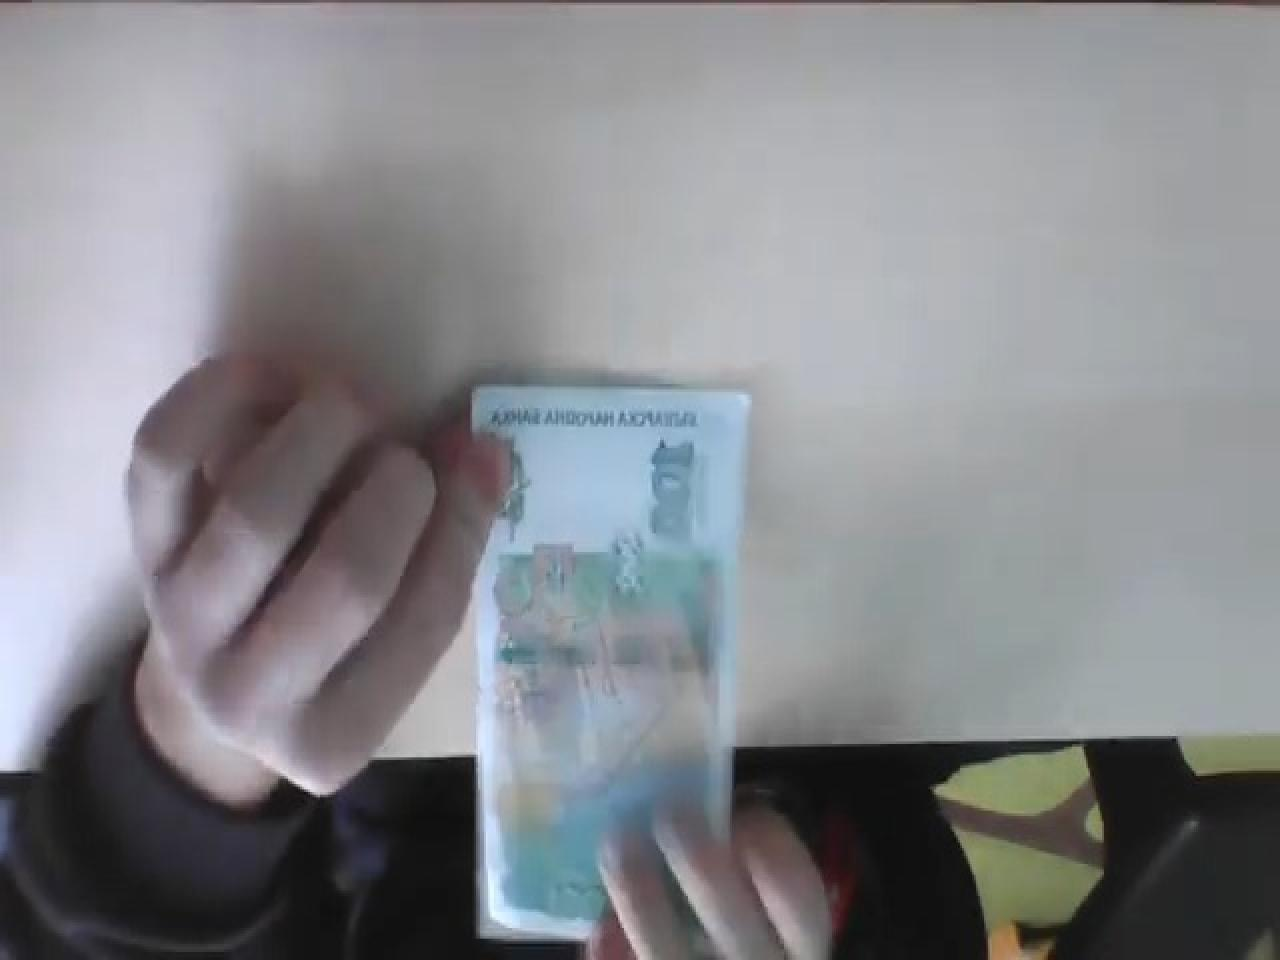100leva: (466, 384, 752, 947)
